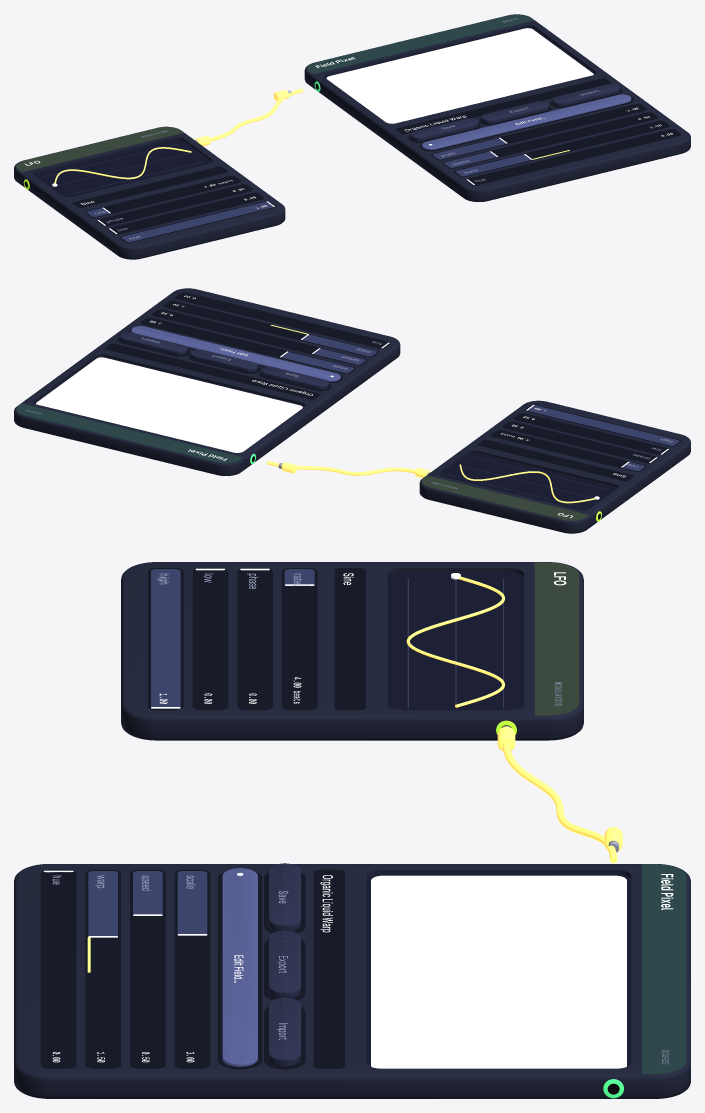
The model's file is patch_lfo_field_pixel.glb.
3 renders of one model, top to bottom at view 1: azimuth 30°, elevation 25°; view 2: azimuth 150°, elevation 25°; view 3: azimuth 270°, elevation 25°, orthographic. The views are drawn at different scales.
Visible parts, largest first — view 1: card.002, preview, card.001, well_0, title_strip.002, b_edit, s_hue_well, title_strip.001, s_speed_well, d_preset, s_scale_well, s_warp_well (+14 smaller); view 2: card.002, preview, card.001, well_0, title_strip.002, b_edit, s_hue_well, title_strip.001, d_preset, s_speed_well, s_scale_well, s_warp_well (+13 smaller); view 3: preview, card.002, card.001, well_0, title_strip.002, s_hue_well, b_edit, title_strip.001, d_preset, s_speed_well, s_scale_well, s_low_well (+16 smaller).
Boxes of the visible parts, box(x1,y1,x2,y2) form: card.002: box(304, 14, 690, 201); preview: box(326, 28, 593, 123); card.001: box(14, 126, 285, 259); well_0: box(34, 139, 211, 197); title_strip.002: box(307, 14, 533, 74); b_edit: box(422, 94, 631, 149); s_hue_well: box(466, 129, 681, 185); title_strip.001: box(16, 127, 183, 172); s_speed_well: box(443, 112, 658, 168); d_preset: box(396, 78, 611, 134); s_scale_well: box(431, 104, 646, 160); s_warp_well: box(454, 120, 669, 176); card.002: box(14, 288, 400, 475); preview: box(36, 357, 302, 452); card.001: box(419, 400, 690, 533); well_0: box(439, 452, 617, 510); title_strip.002: box(16, 403, 242, 463); b_edit: box(131, 326, 340, 381); s_hue_well: box(175, 292, 390, 348); title_strip.001: box(422, 475, 588, 520); d_preset: box(105, 343, 320, 399); s_speed_well: box(152, 309, 367, 365); s_scale_well: box(140, 317, 355, 373); s_warp_well: box(163, 300, 378, 357); preview: box(371, 875, 626, 1068); card.002: box(14, 864, 690, 1098); card.001: box(121, 562, 583, 740); well_0: box(387, 572, 524, 710); title_strip.002: box(642, 864, 686, 1074); s_hue_well: box(40, 869, 76, 1068); b_edit: box(222, 868, 257, 1067); title_strip.001: box(534, 562, 579, 715); d_preset: box(313, 869, 344, 1068); s_speed_well: box(130, 869, 165, 1068); s_scale_well: box(174, 869, 210, 1068); s_low_well: box(192, 568, 228, 710).
Size of the model in its own units: 0.8227 by 0.0245 by 0.455.
